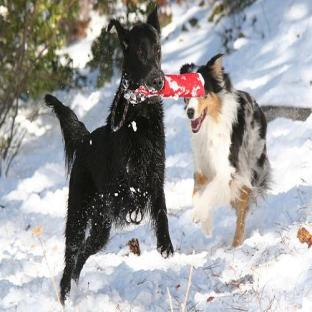Animal: (45, 7, 173, 304)
